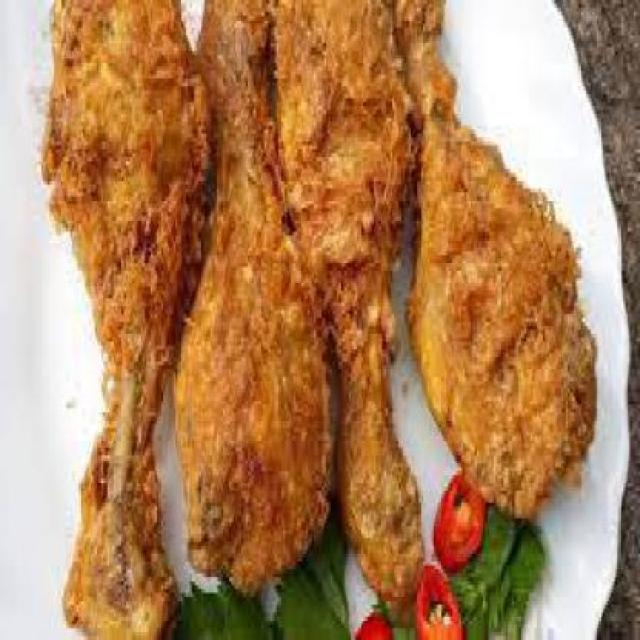Chicken -Fried Chicken-: (41, 0, 213, 632), (397, 0, 597, 498), (172, 0, 336, 594), (278, 0, 428, 597)
